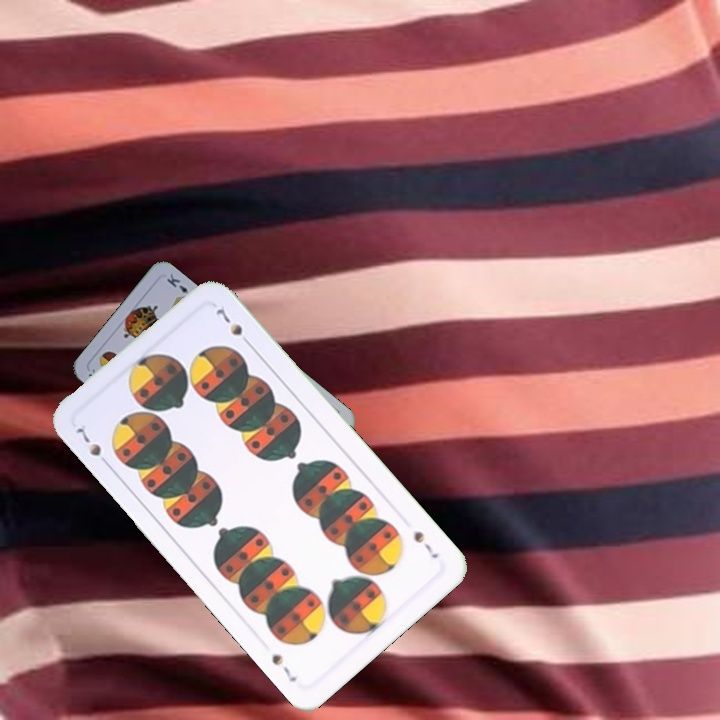S7: (72, 423, 113, 470), (409, 527, 441, 562)
